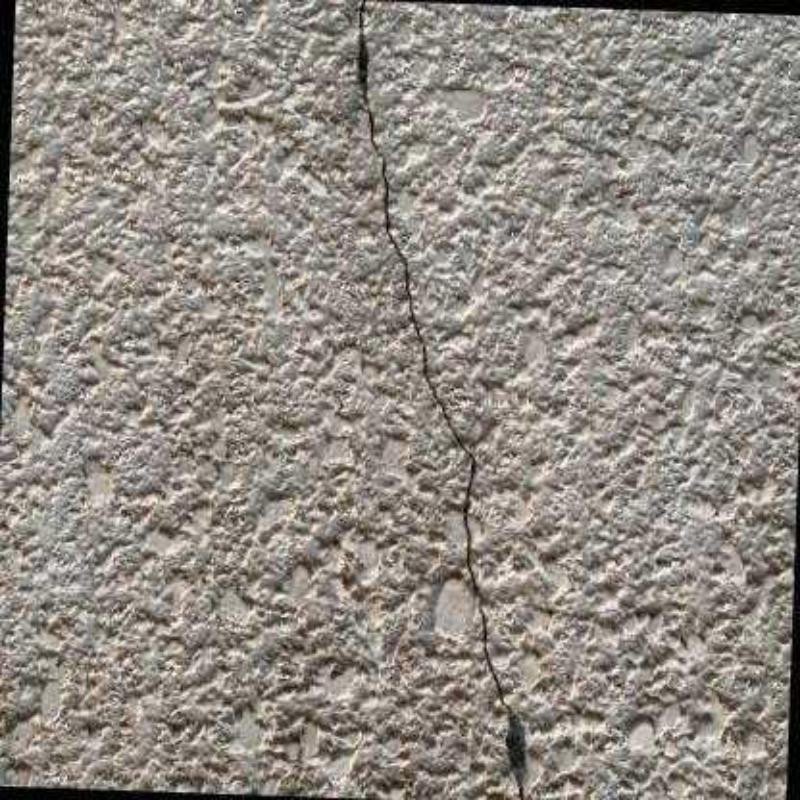pothole: (359, 2, 525, 800)
